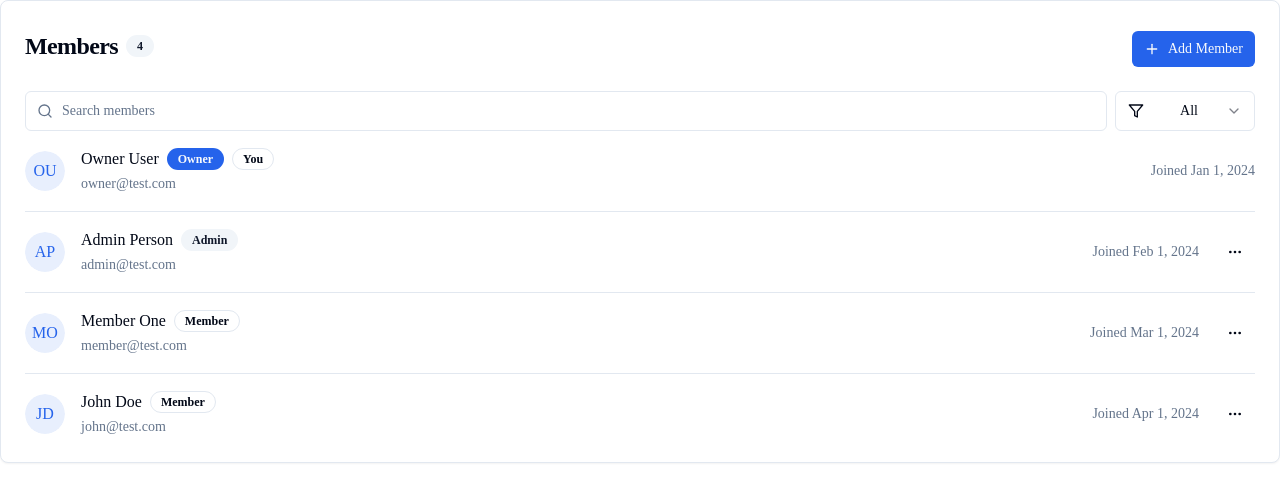
Test: TeamMembers Enhancements › filters members by search query
The image size is (1280, 480).
Type "john" into the field with placeholder "Search members" at (566, 111), box top-left (25, 91), bottom-right (1107, 131)
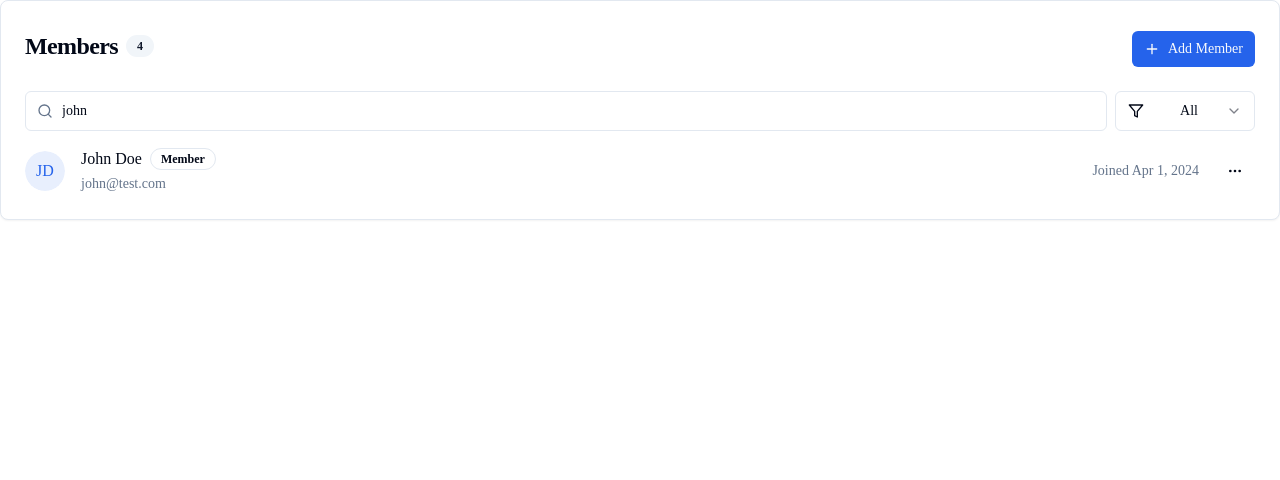
Expected: the text "John Doe" is shown, top-left (81, 147), bottom-right (142, 171)
Result: the text "Owner User" is gone
